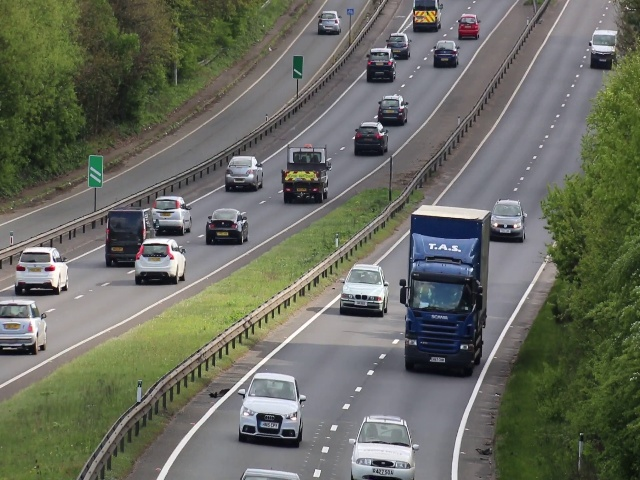car: (404, 259, 481, 379), (239, 372, 304, 448), (350, 414, 414, 480), (105, 208, 155, 266), (340, 263, 389, 317), (1, 298, 46, 356), (14, 247, 69, 294), (283, 146, 328, 203), (135, 239, 186, 287), (204, 207, 249, 246), (150, 196, 192, 237), (491, 198, 525, 243), (225, 155, 263, 190), (353, 122, 388, 154), (366, 47, 396, 83), (592, 29, 617, 71), (377, 94, 408, 125), (411, 1, 441, 32), (433, 38, 459, 68), (387, 31, 411, 59), (457, 13, 480, 40), (318, 10, 342, 35)
